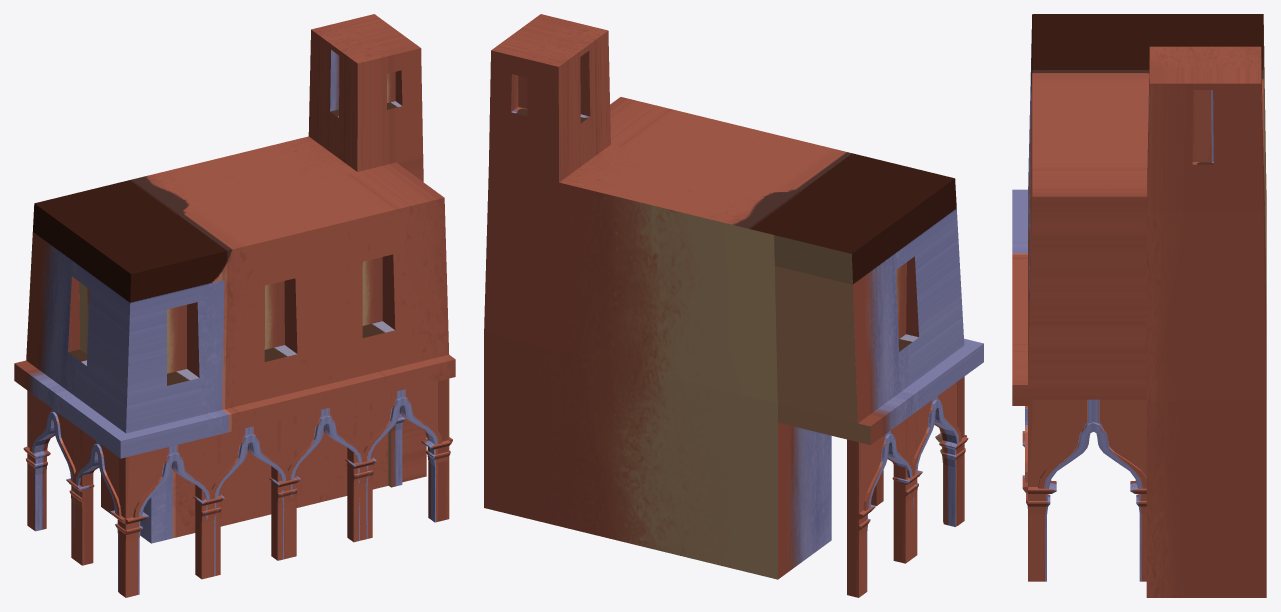
The model's file is BuildingC.obj.
The picture shows the model from 3 angles, left to right: view 1: azimuth 30°, elevation 25°; view 2: azimuth 150°, elevation 25°; view 3: azimuth 270°, elevation 25°; orthographic projection. The views are drawn at different scales.
Visible parts, largest first — view 1: building_3_Cube.042; view 2: building_3_Cube.042; view 3: building_3_Cube.042.
Boxes of the visible parts, x1=… form: building_3_Cube.042: x1=14, y1=14, x2=455, y2=597; building_3_Cube.042: x1=484, y1=14, x2=983, y2=597; building_3_Cube.042: x1=1012, y1=14, x2=1266, y2=597.
Bounding box in the file's own units: 7.93 × 8.96 × 4.03.
